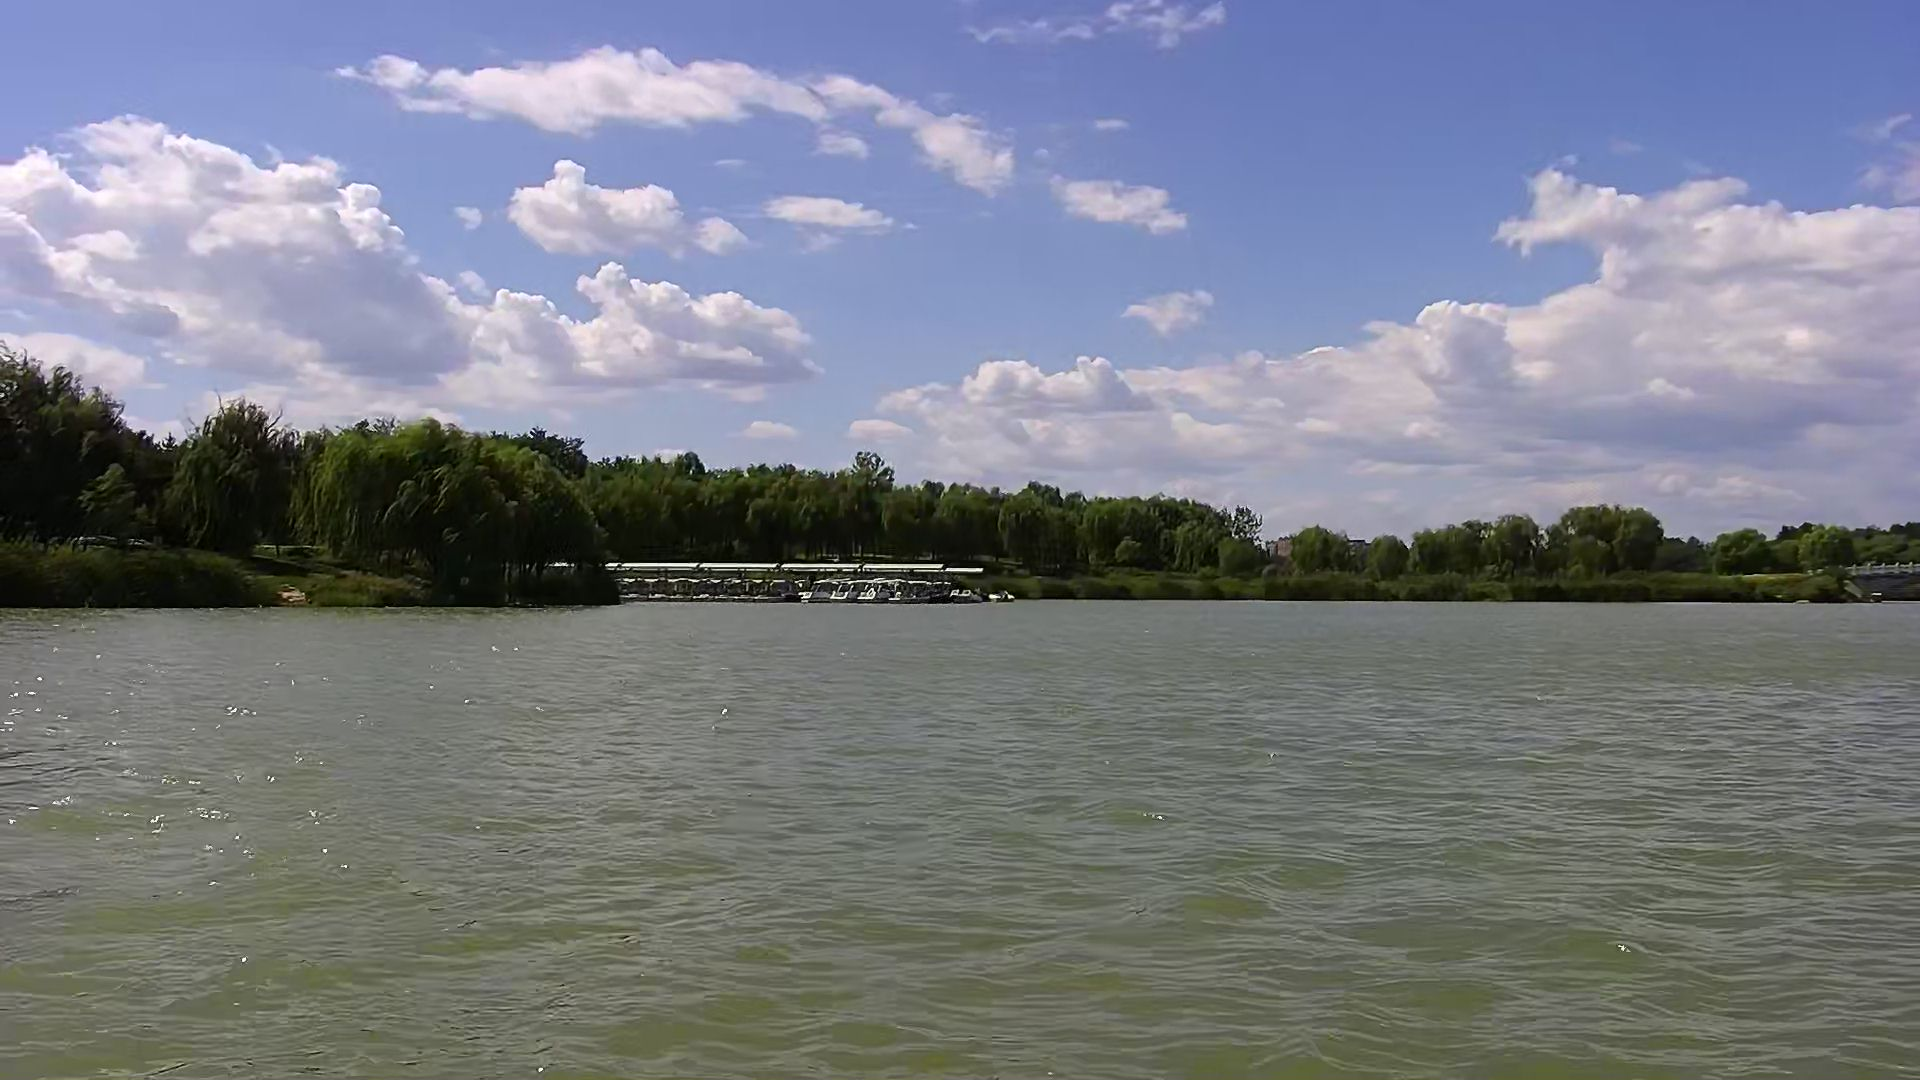harbor: (604, 558, 1002, 607)
